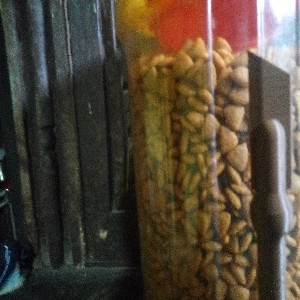cutter: (245, 48, 293, 300)
